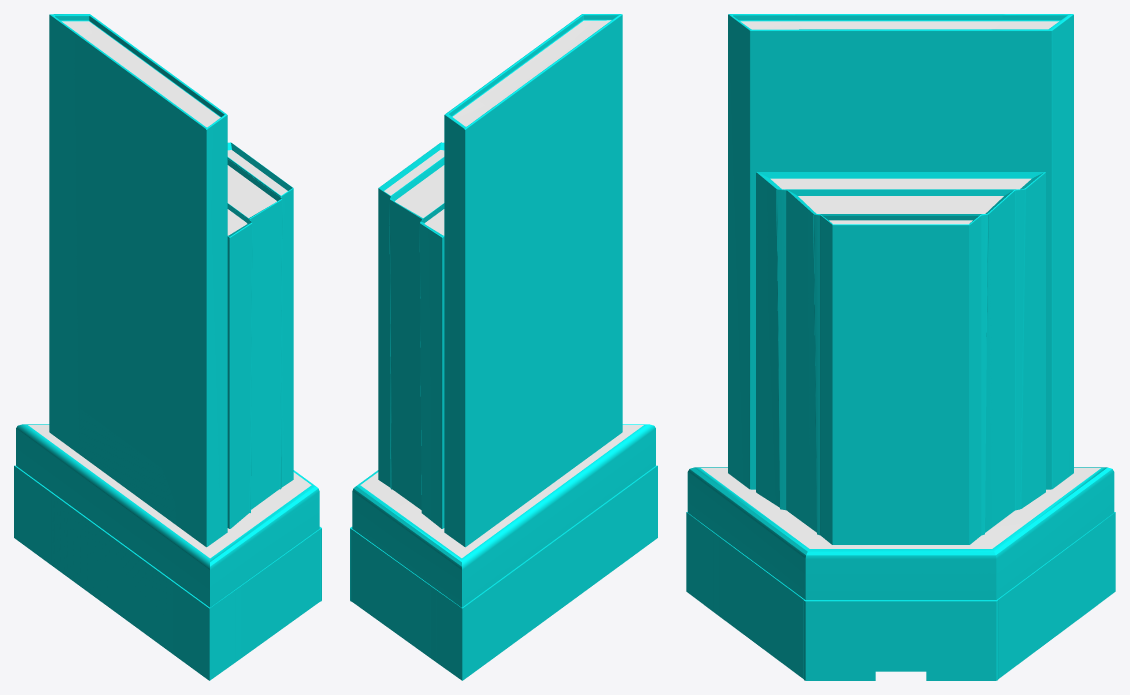
File: Building_25_Blue.glb
3 renders of one model, left to right at view 1: azimuth 30°, elevation 25°; view 2: azimuth 150°, elevation 25°; view 3: azimuth 270°, elevation 25°, orthographic. The views are drawn at different scales.
Parts seen in each view (by area): view 1: pCube20; view 2: pCube20; view 3: pCube20.
Boxes of the visible parts, box(x1,y1,x2,y2) form: pCube20: box(14, 14, 321, 680); pCube20: box(350, 14, 657, 680); pCube20: box(686, 14, 1115, 680).
Size of the model in its own units: 2369 by 7240 by 4805.
